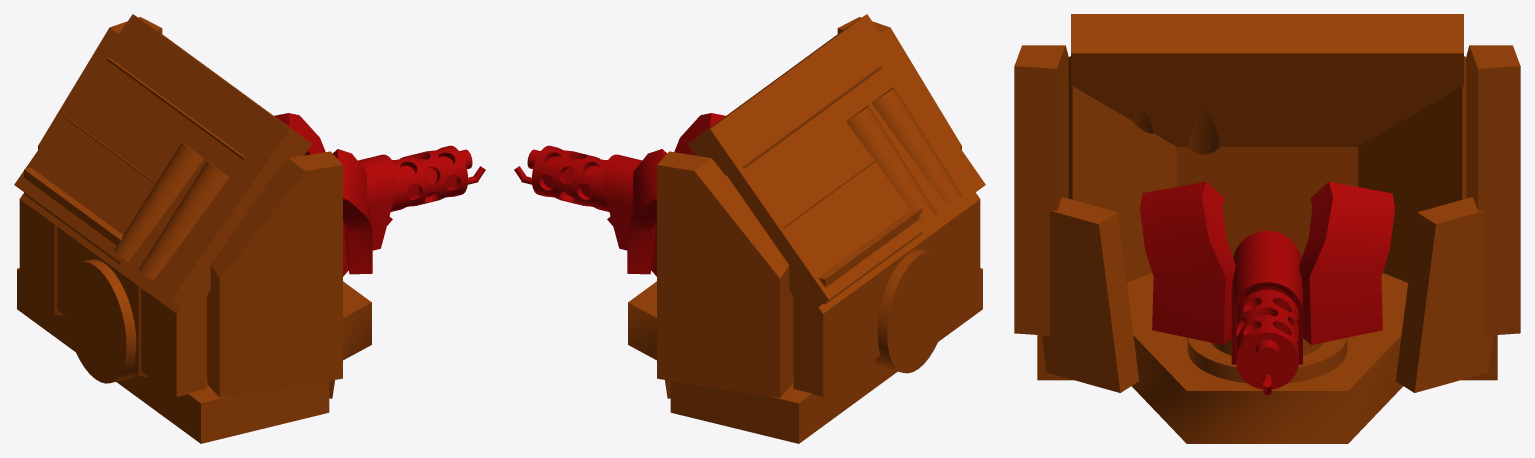
The model's file is flamethrower side export.fbx.
The picture shows the model from 3 angles, left to right: view 1: azimuth 30°, elevation 25°; view 2: azimuth 150°, elevation 25°; view 3: azimuth 270°, elevation 25°; orthographic projection. The views are drawn at different scales.
Parts seen in each view (by area): view 1: edges_1, flmaethrower_1; view 2: edges_1, flmaethrower_1; view 3: edges_1, flmaethrower_1.
Part boxes in pixels (bbox=[...]): edges_1: bbox=[14, 14, 371, 443]; flmaethrower_1: bbox=[274, 113, 485, 276]; edges_1: bbox=[628, 14, 985, 443]; flmaethrower_1: bbox=[514, 113, 725, 276]; edges_1: bbox=[1014, 14, 1520, 443]; flmaethrower_1: bbox=[1140, 181, 1394, 395].
Bounding box in the file's own units: 41.73 × 28.23 × 36.84.
